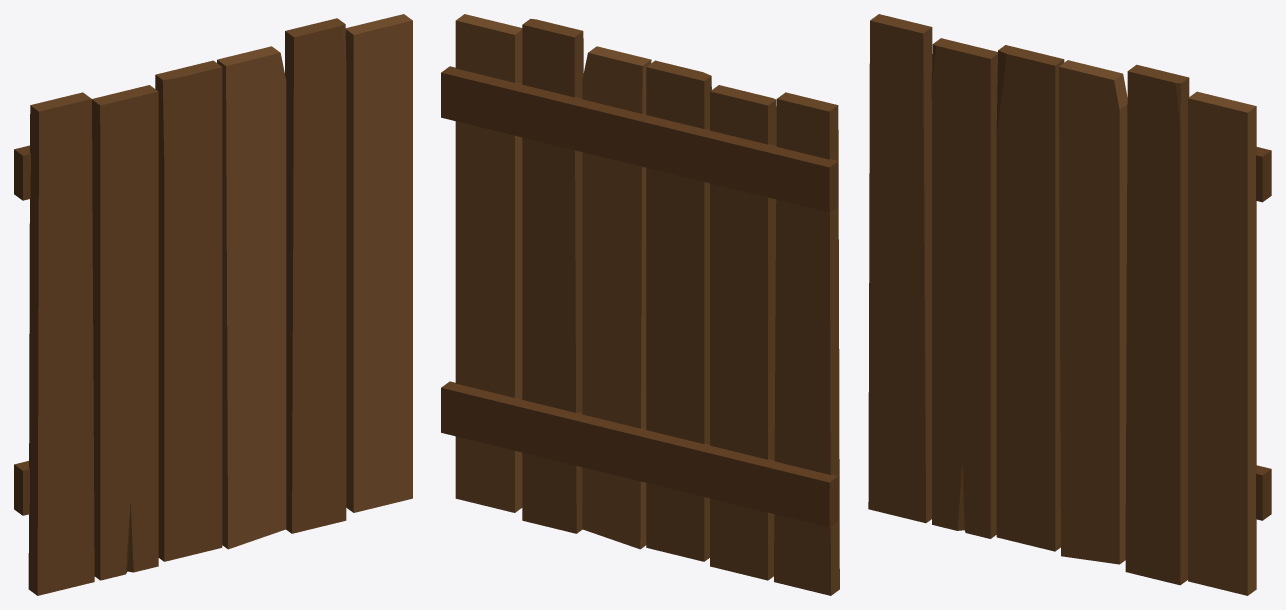
The model's file is SM_Props_Fence_02.glb.
3 renders of one model, left to right at view 1: azimuth 30°, elevation 25°; view 2: azimuth 150°, elevation 25°; view 3: azimuth 330°, elevation 25°, orthographic.
Parts seen in each view (by area): view 1: SM_Props_Fence_02; view 2: SM_Props_Fence_02; view 3: SM_Props_Fence_02.
Part boxes in pixels (bbox=[...]): SM_Props_Fence_02: bbox=[14, 14, 412, 595]; SM_Props_Fence_02: bbox=[441, 14, 839, 595]; SM_Props_Fence_02: bbox=[868, 14, 1271, 595].
Bounding box in the file's own units: 1.02 × 1.24 × 0.0766.
1 material, 1 textured.
